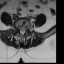CCS_normal: (21, 28, 23, 37)
LFS_severe_stenosis: (25, 26, 27, 32)
LLS_stenosis: (23, 28, 25, 34)
RFS_severe_stenosis: (17, 26, 19, 32)
RLS_normal: (19, 28, 21, 35)
